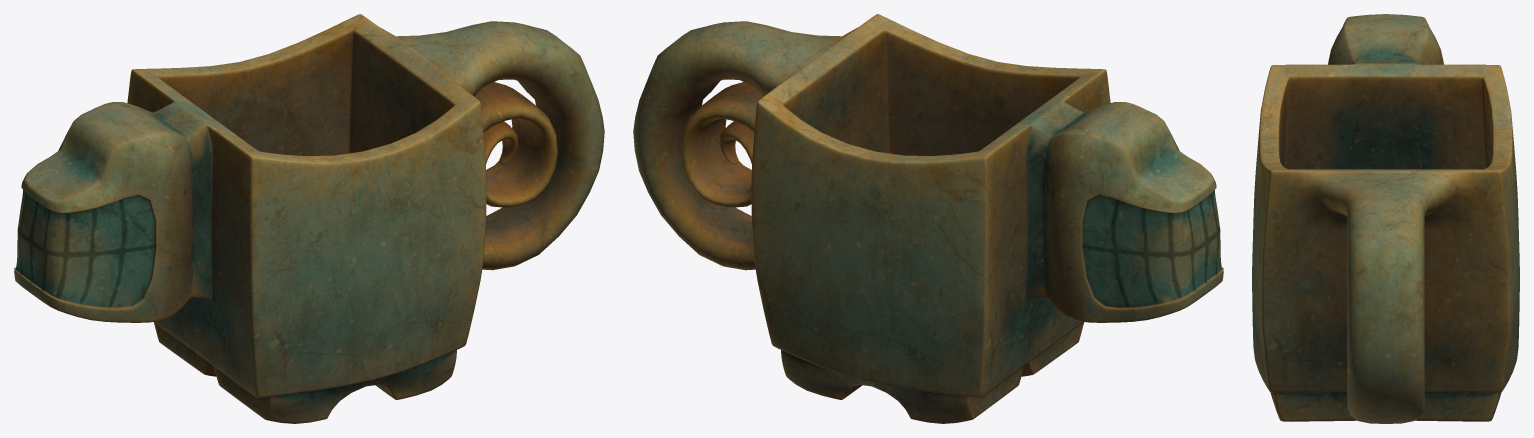
File: mortero_cultura_valdivia.glb
The picture shows the model from 3 angles, left to right: view 1: azimuth 30°, elevation 25°; view 2: azimuth 150°, elevation 25°; view 3: azimuth 270°, elevation 25°; orthographic projection. The views are drawn at different scales.
Parts seen in each view (by area): view 1: Cube; view 2: Cube; view 3: Cube.
Boxes of the visible parts, box(x1,y1,x2,y2) form: Cube: box(14, 14, 604, 423); Cube: box(633, 14, 1223, 423); Cube: box(1252, 14, 1519, 423).
Size of the model in its own units: 0.676 by 0.3379 by 0.2926.
Materials: 1 (1 with a texture image).
